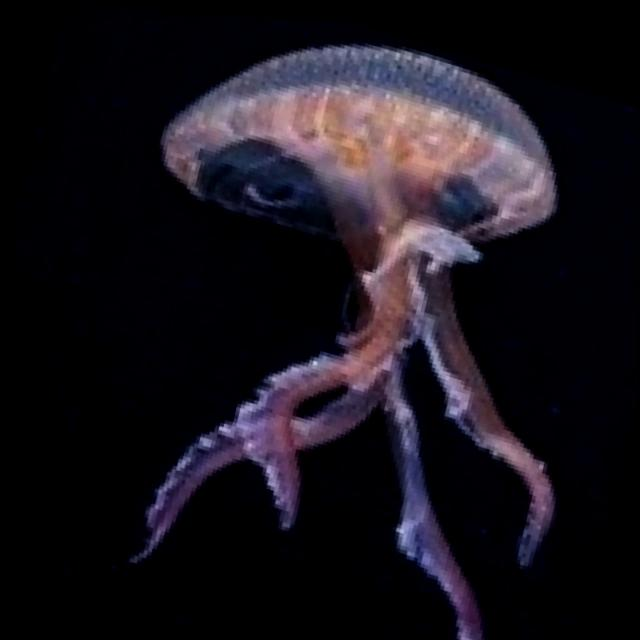Box-jellyfish: (62, 3, 640, 640)
